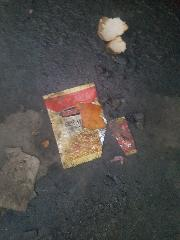general: (43, 83, 108, 169), (106, 114, 142, 158)
